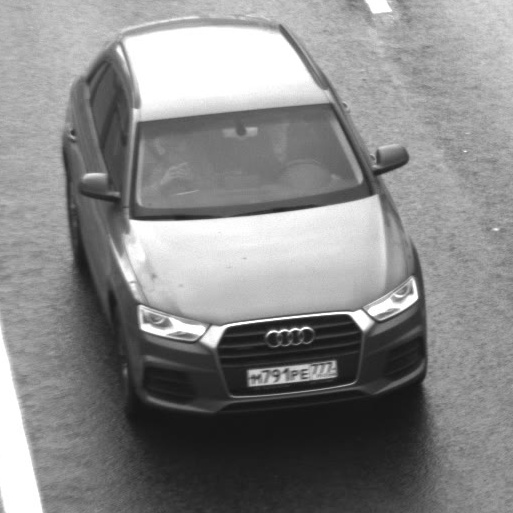plate: (236, 351, 347, 394)
